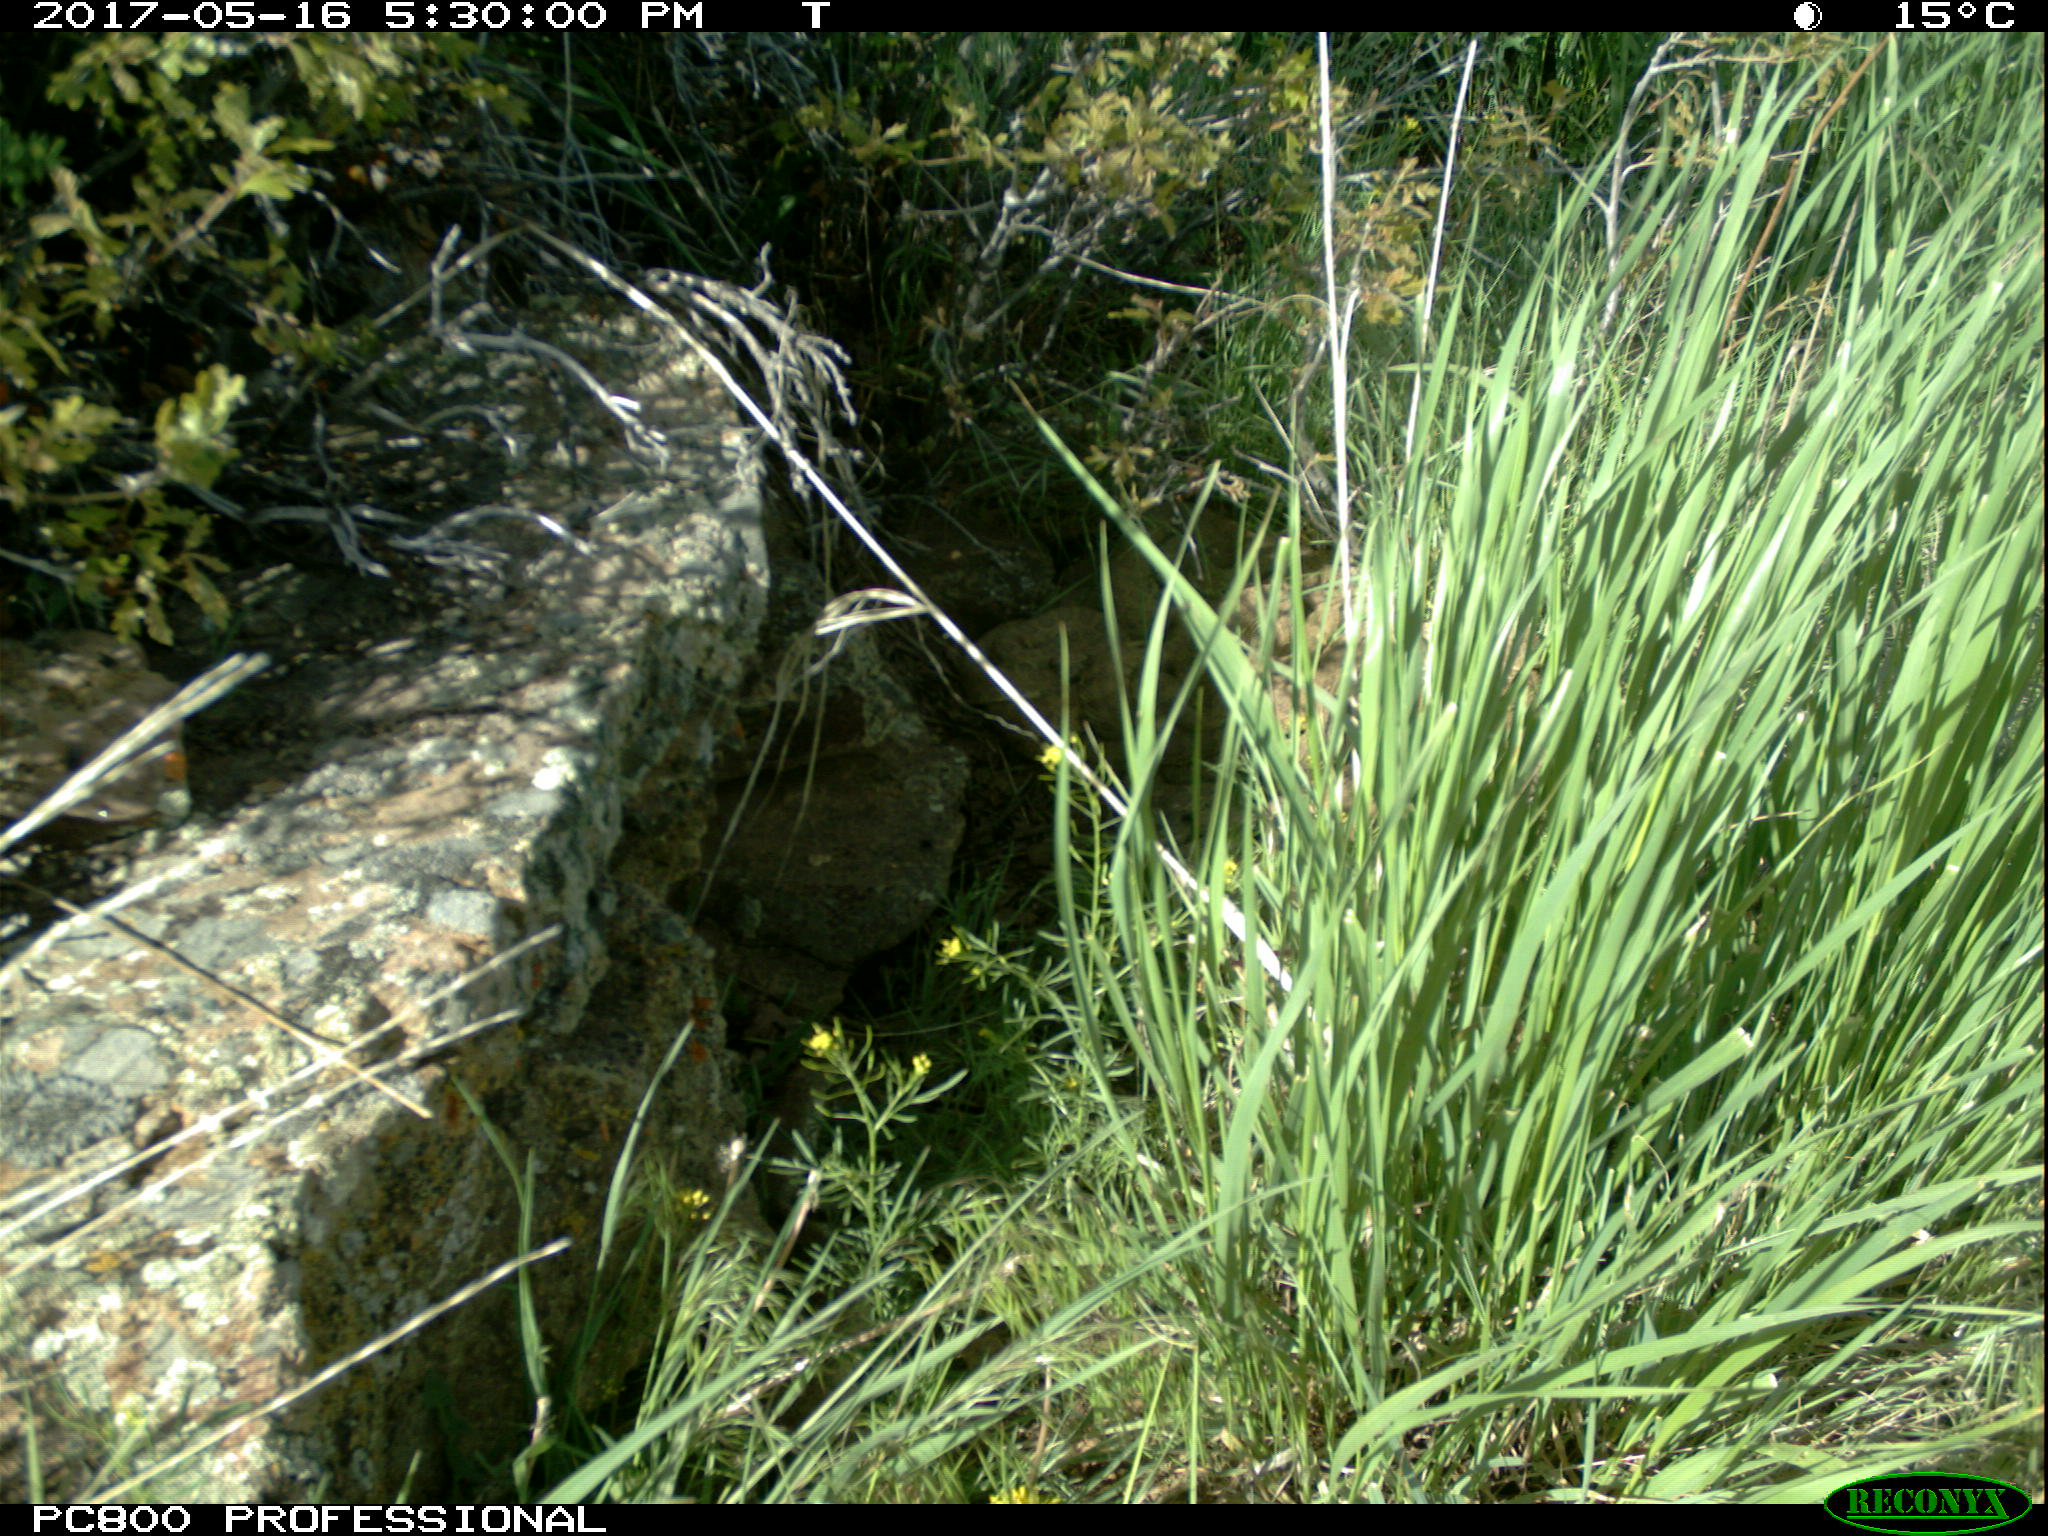snake: (966, 603, 1134, 712), (1234, 550, 1379, 653)
